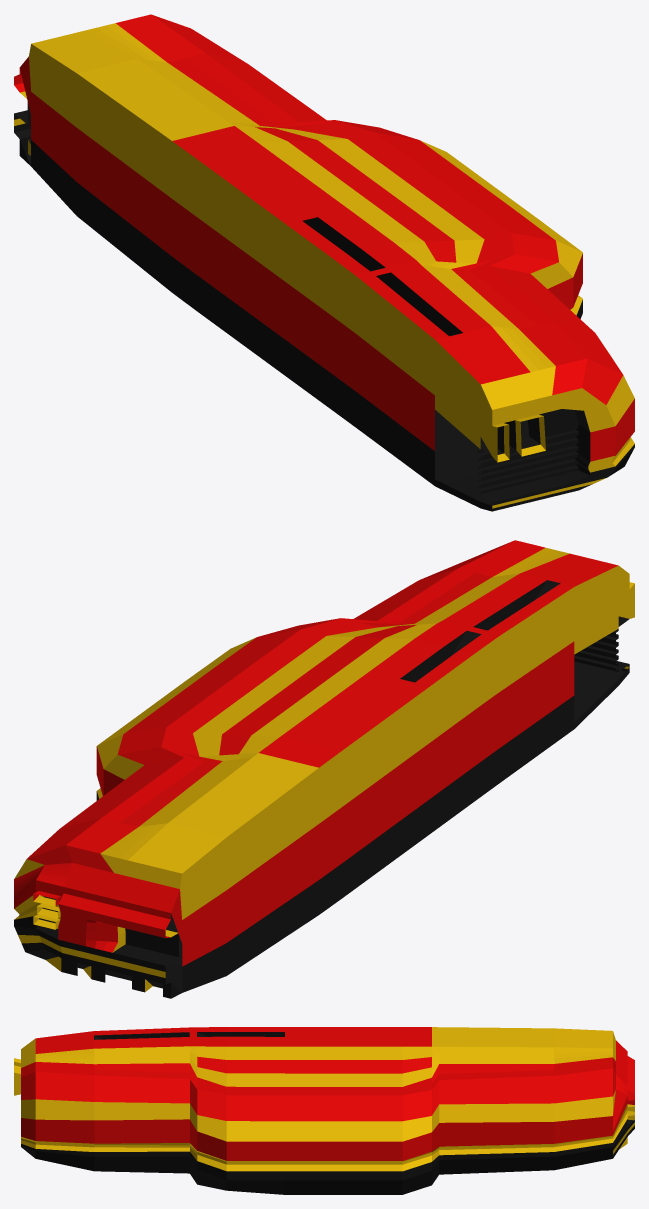
Rendered from C0.Cowl.0c.Export.glb.
The picture shows the model from 3 angles, top to bottom: view 1: azimuth 30°, elevation 25°; view 2: azimuth 150°, elevation 25°; view 3: azimuth 270°, elevation 25°; orthographic projection. The views are drawn at different scales.
Parts seen in each view (by area): view 1: Cube; view 2: Cube; view 3: Cube.
Boxes of the visible parts, x1=… form: Cube: x1=14, y1=14, x2=634, y2=511; Cube: x1=14, y1=540, x2=634, y2=998; Cube: x1=14, y1=1027, x2=634, y2=1194.
Size of what is drawn, in the model's own units: 1.27 by 0.7388 by 4.23.
